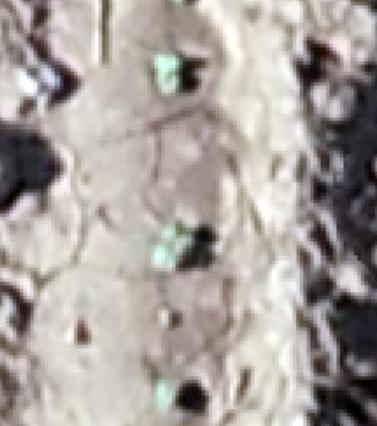cotton: (156, 55, 181, 92), (154, 245, 177, 270), (168, 225, 194, 247), (158, 382, 178, 405)
